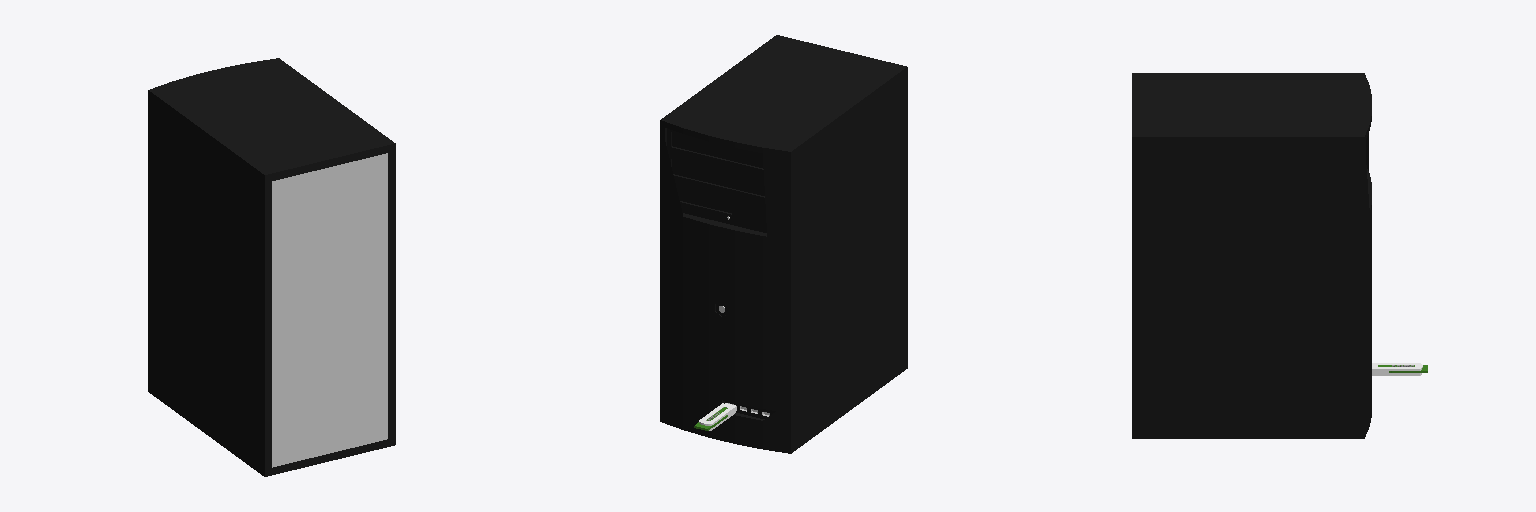
3 views of the same model, side by side, from view 1: azimuth 30°, elevation 25°; view 2: azimuth 150°, elevation 25°; view 3: azimuth 270°, elevation 25° (orthographic).
Parts seen in each view (by area): view 1: Mesh10 CPU Model; view 2: Mesh10 CPU Model, Mesh9 drive2 CPU Model, Mesh6 drive1 CPU Model, Mesh20 Model; view 3: Mesh10 CPU Model, Mesh20 Model.
Boxes of the visible parts, x1=… form: Mesh10 CPU Model: x1=148, y1=58, x2=395, y2=476; Mesh10 CPU Model: x1=660, y1=35, x2=907, y2=453; Mesh9 drive2 CPU Model: x1=671, y1=159, x2=764, y2=197; Mesh6 drive1 CPU Model: x1=671, y1=132, x2=763, y2=169; Mesh20 Model: x1=694, y1=403, x2=736, y2=430; Mesh10 CPU Model: x1=1132, y1=73, x2=1371, y2=438; Mesh20 Model: x1=1372, y1=363, x2=1427, y2=375.
Bounding box in the file's own units: 1.85 × 4.09 × 3.64.
Materials: 8 (1 with a texture image).